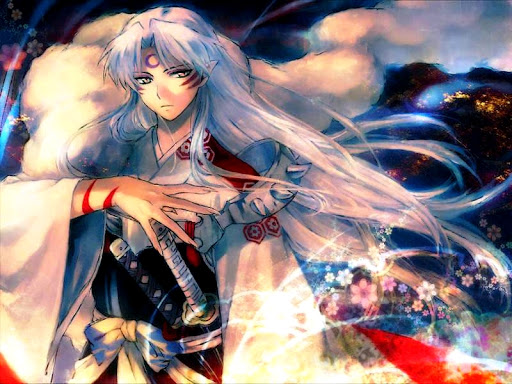sesshomaru: (99, 5, 241, 164)
